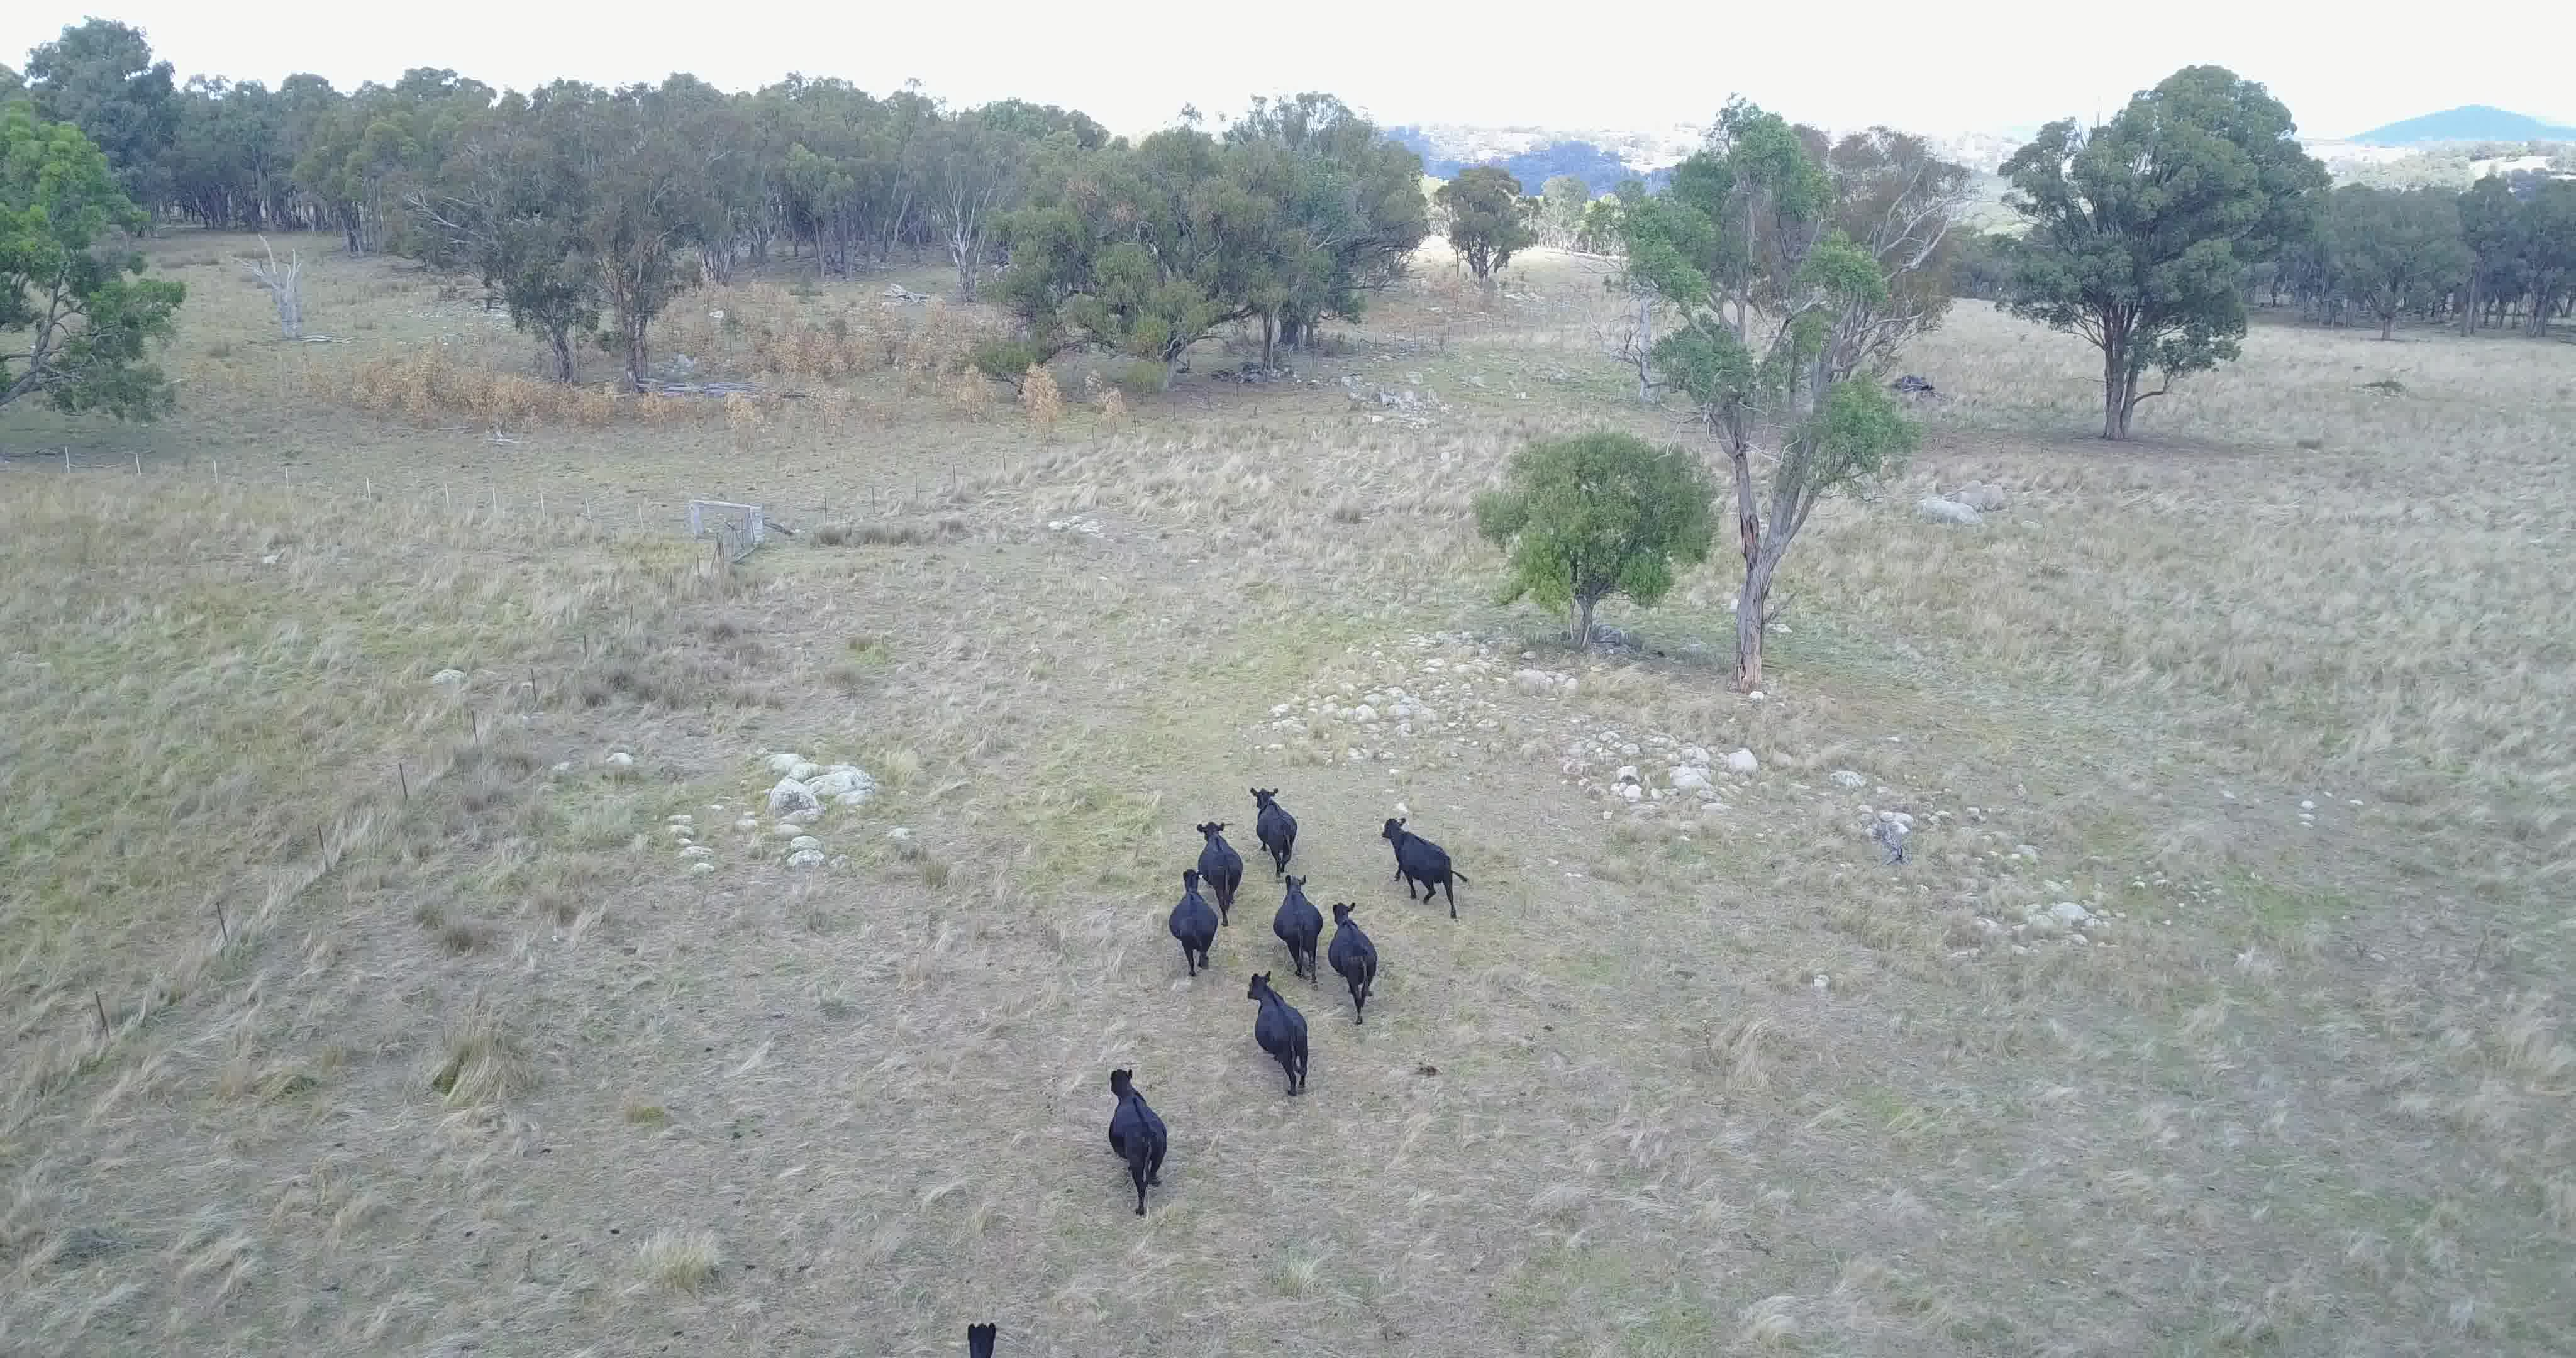cattle: (1095, 1063, 1172, 1218), (1380, 809, 1470, 922), (1244, 968, 1315, 1099), (1327, 900, 1382, 1029), (1269, 874, 1322, 987), (1165, 866, 1216, 980), (1194, 818, 1244, 927), (1247, 782, 1300, 878), (954, 1317, 1007, 1358)
